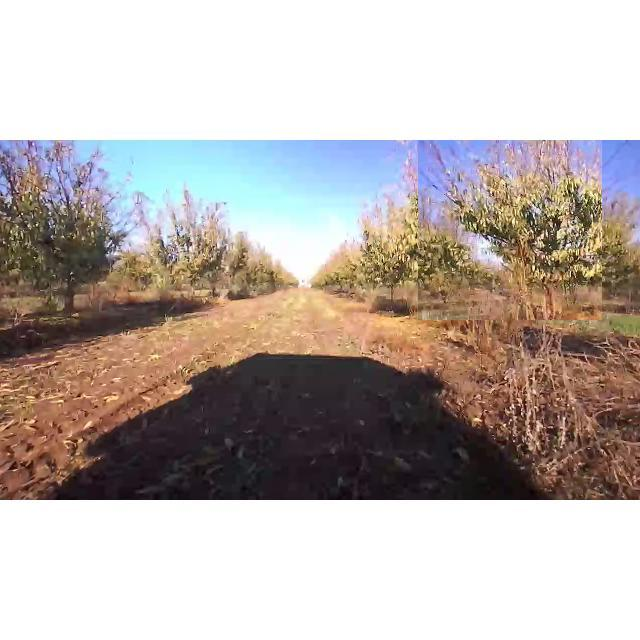direk: (418, 140, 602, 320), (0, 143, 130, 325), (352, 192, 444, 314), (130, 189, 228, 299), (213, 204, 254, 302), (328, 237, 367, 301)
